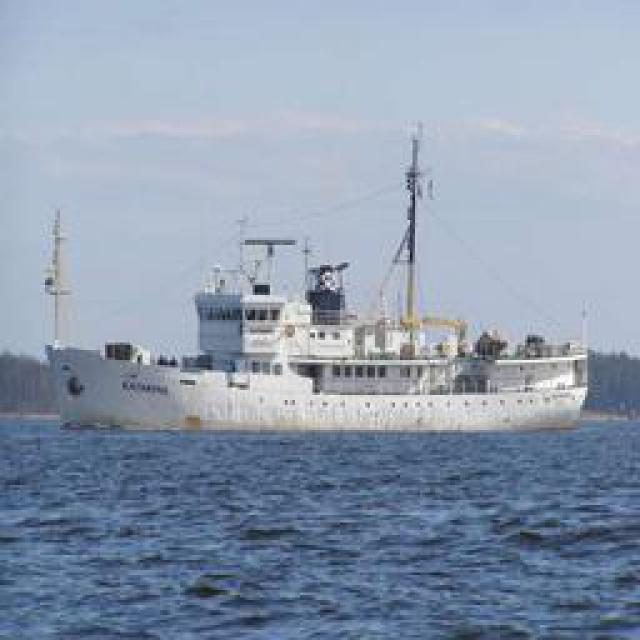Ship: (51, 141, 584, 434)
